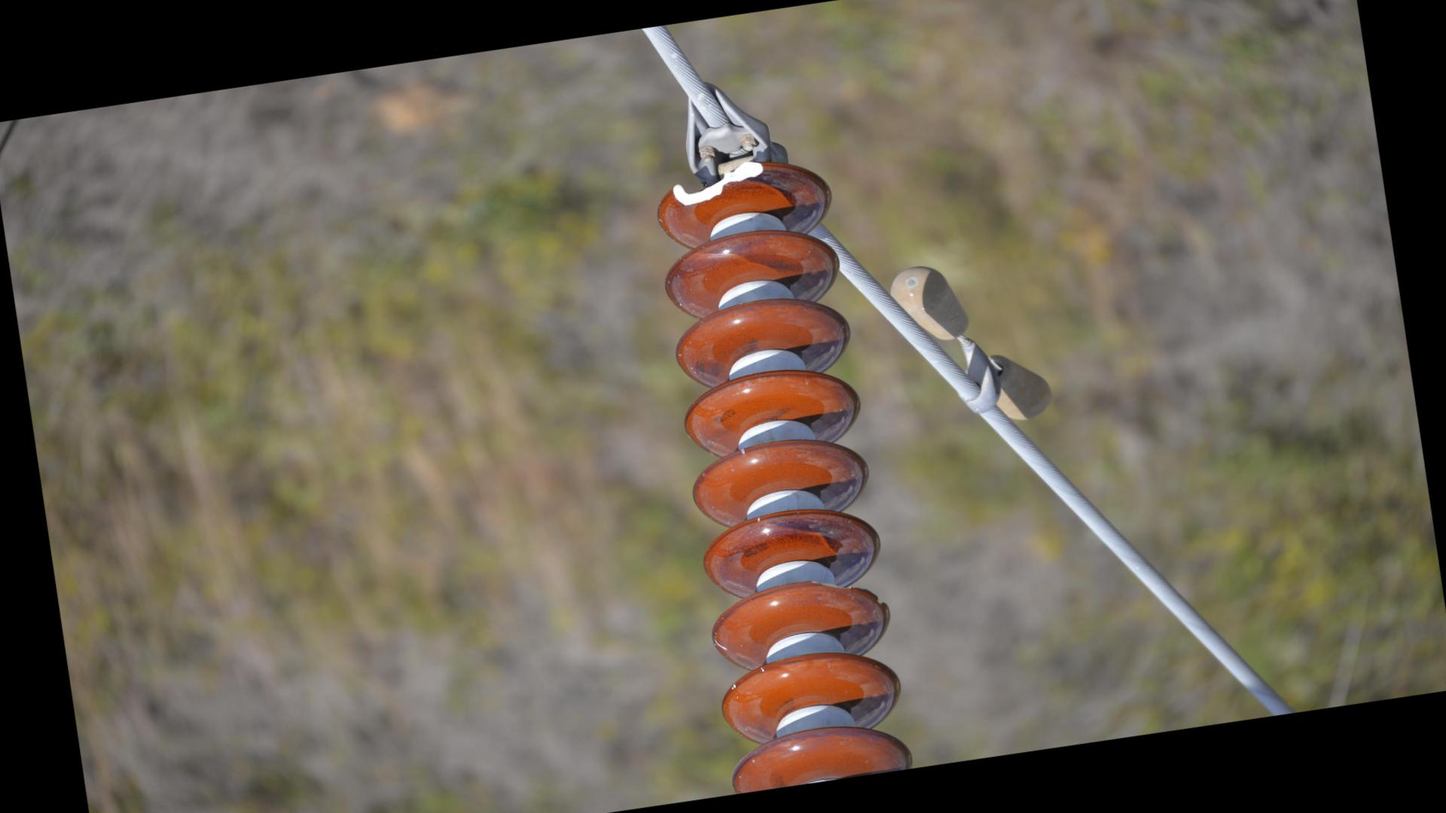damper: (880, 243, 1061, 444)
